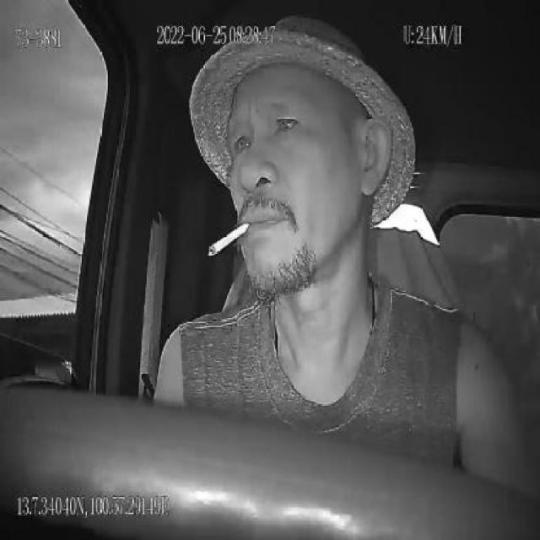smoking: (206, 219, 252, 256)
